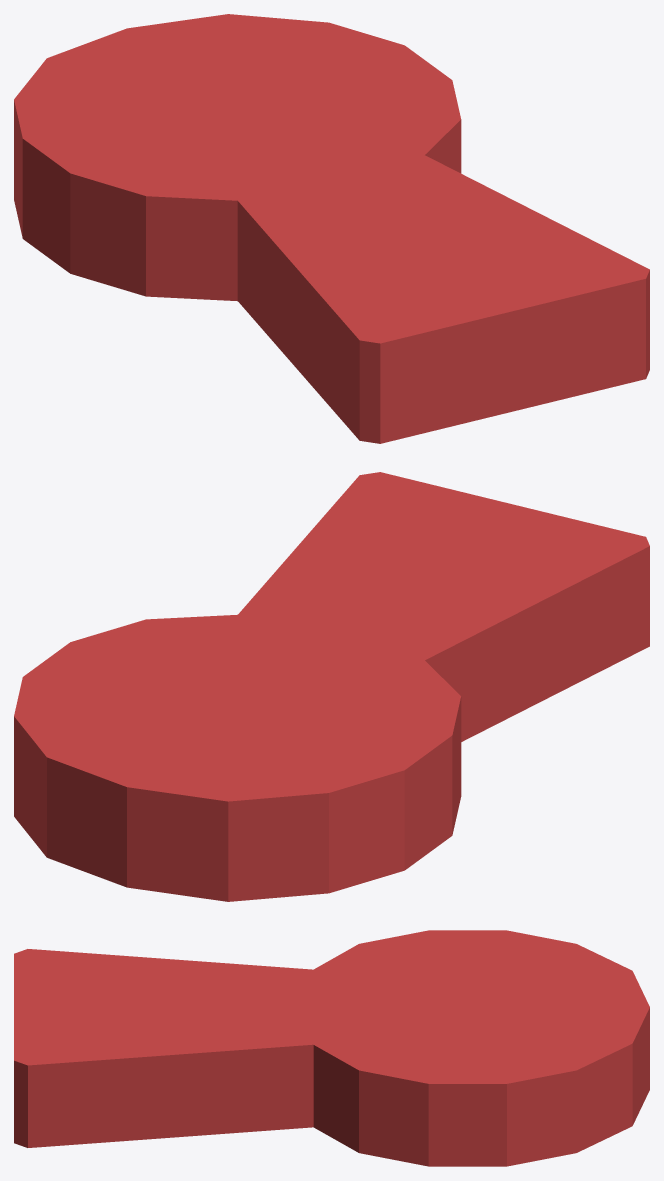
The model's file is icon_puerta_rojo.fbx.
3 views of the same model, one above another, from view 1: azimuth 30°, elevation 25°; view 2: azimuth 150°, elevation 25°; view 3: azimuth 270°, elevation 25° (orthographic). The views are drawn at different scales.
Parts seen in each view (by area): view 1: Icono_puerta_rojo; view 2: Icono_puerta_rojo; view 3: Icono_puerta_rojo.
Boxes of the visible parts, box(x1,y1,x2,y2) form: Icono_puerta_rojo: box(14, 14, 649, 443); Icono_puerta_rojo: box(14, 472, 649, 901); Icono_puerta_rojo: box(14, 930, 649, 1166).
Size of the model in its own units: 42.96 by 10.79 by 75.24.
